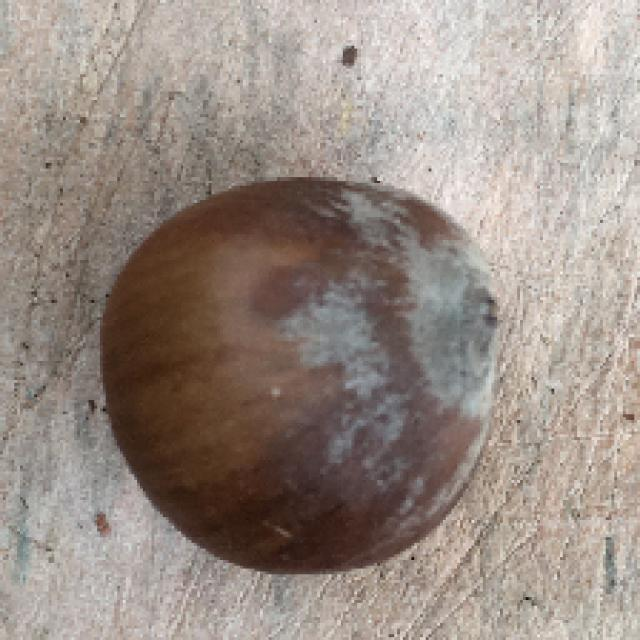damagedHazelnut: (105, 170, 514, 587)
